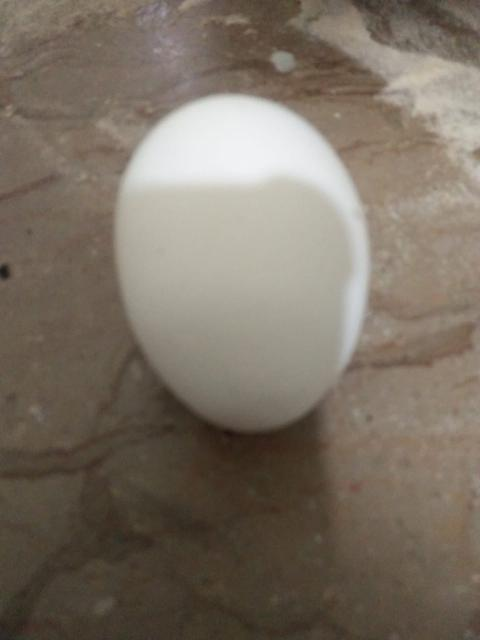Sano: (111, 91, 372, 435)
